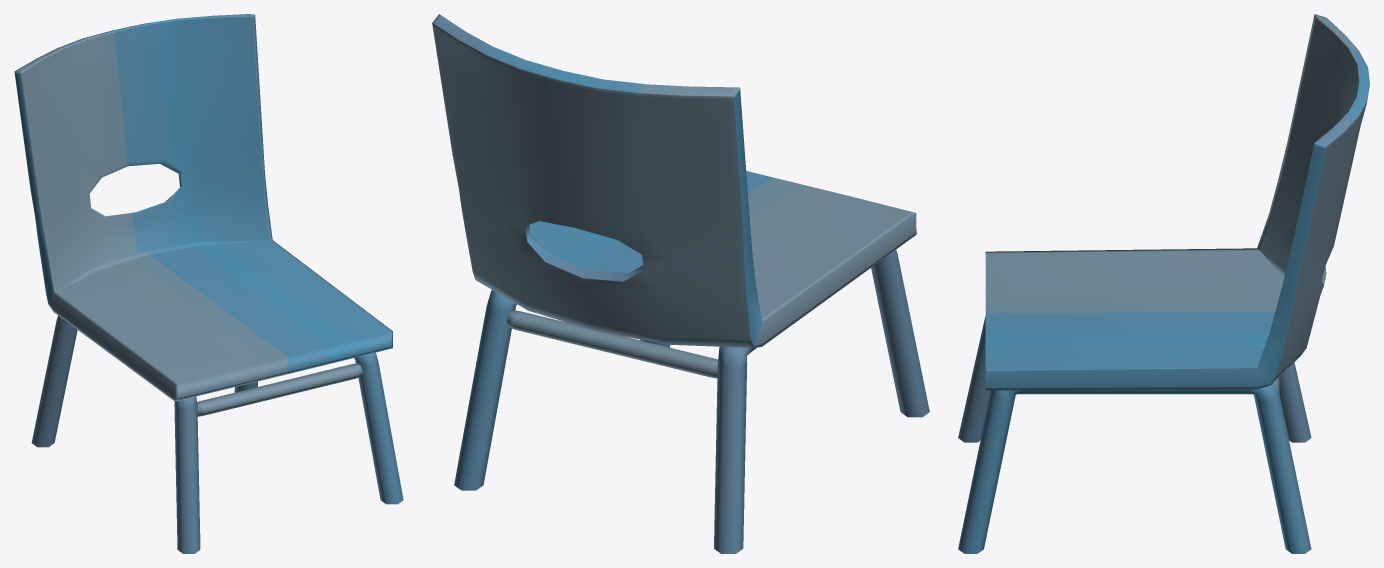
File: a_sch_class_obj_chair_blue.gltf
The picture shows the model from 3 angles, left to right: view 1: azimuth 30°, elevation 25°; view 2: azimuth 150°, elevation 25°; view 3: azimuth 270°, elevation 25°; orthographic projection. The views are drawn at different scales.
Visible parts, largest first — view 1: a_sch_class_obj_chair_blue_mesh_shape:a_sch_class_obj_chair_; view 2: a_sch_class_obj_chair_blue_mesh_shape:a_sch_class_obj_chair_; view 3: a_sch_class_obj_chair_blue_mesh_shape:a_sch_class_obj_chair_.
Boxes of the visible parts, bbox=[...] form: a_sch_class_obj_chair_blue_mesh_shape:a_sch_class_obj_chair_: bbox=[14, 14, 403, 553]; a_sch_class_obj_chair_blue_mesh_shape:a_sch_class_obj_chair_: bbox=[432, 14, 929, 553]; a_sch_class_obj_chair_blue_mesh_shape:a_sch_class_obj_chair_: bbox=[958, 14, 1369, 553].
Size of the model in its own units: 0.5285 by 0.7921 by 0.7121.
1 material, 1 textured.
